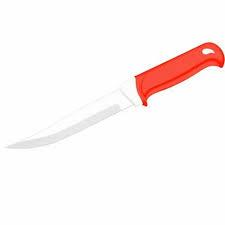Knife: (4, 40, 224, 149)
